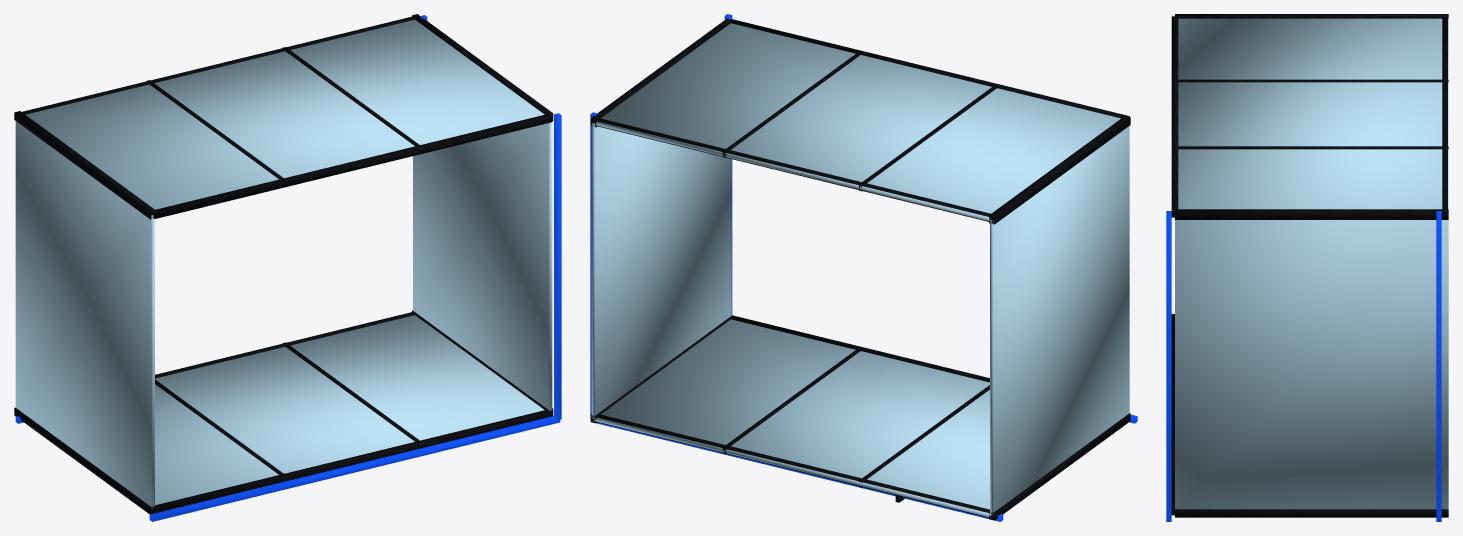
File: ARCH_GLASS_MEETING_ROOM_HERO_001.glb
3 renders of one model, left to right at view 1: azimuth 30°, elevation 25°; view 2: azimuth 150°, elevation 25°; view 3: azimuth 270°, elevation 25°, orthographic.
Parts seen in each view (by area): view 1: glass_front_back_009, glass_front_back_006, glass_side_000, glass_side_003, top_frame_010, neon_front_top_018, top_frame_007, neon_side_top_019, corner_frame_002, bottom_frame_011, corner_frame_001, bottom_frame_008 (+5 smaller); view 2: glass_front_back_009, glass_front_back_006, glass_side_000, glass_side_003, bottom_frame_008, bottom_frame_011, top_frame_010, corner_frame_002, corner_frame_001, top_frame_007, corner_frame_005, neon_front_floor_016 (+5 smaller); view 3: glass_side_003, glass_front_back_009, corner_frame_005, corner_frame_004, neon_side_floor_017, neon_side_top_019, top_frame_010, corner_frame_002, bottom_frame_011, mullion_015, mullion_013, top_frame_007.
Part boxes in pixels (x1,y1,x2,y2): glass_front_back_009: (26, 19, 544, 209); glass_front_back_006: (155, 315, 544, 505); glass_side_000: (15, 121, 154, 508); glass_side_003: (413, 122, 552, 410); top_frame_010: (153, 114, 552, 218); neon_front_top_018: (149, 416, 560, 521); top_frame_007: (153, 410, 552, 513); neon_side_top_019: (554, 113, 561, 420); corner_frame_002: (14, 111, 155, 219); bottom_frame_011: (22, 16, 414, 114); corner_frame_001: (14, 407, 155, 514); bottom_frame_008: (155, 312, 414, 378); glass_front_back_009: (593, 23, 1120, 221); glass_front_back_006: (593, 319, 991, 517); glass_side_000: (990, 126, 1129, 515); glass_side_003: (591, 122, 731, 418); bottom_frame_008: (597, 414, 989, 517); bottom_frame_011: (597, 118, 990, 221); top_frame_010: (731, 19, 1129, 118); corner_frame_002: (989, 116, 1130, 224); corner_frame_001: (989, 413, 1130, 520); top_frame_007: (731, 315, 989, 382); corner_frame_005: (590, 18, 732, 127); neon_front_floor_016: (597, 422, 1003, 521); glass_side_003: (1175, 220, 1448, 509); glass_front_back_009: (1178, 18, 1448, 209); corner_frame_005: (1175, 209, 1448, 219); corner_frame_004: (1175, 509, 1448, 517); neon_side_floor_017: (1436, 211, 1441, 519); neon_side_top_019: (1166, 211, 1171, 519); top_frame_010: (1171, 16, 1178, 217); corner_frame_002: (1175, 14, 1448, 18); bottom_frame_011: (1442, 17, 1447, 209); mullion_015: (1175, 146, 1448, 149); mullion_013: (1178, 79, 1448, 82); top_frame_007: (1171, 314, 1174, 515).
Size of the model in its own units: 3.91 by 2.84 by 2.32.
Materials: 4 (4 with a texture image).
